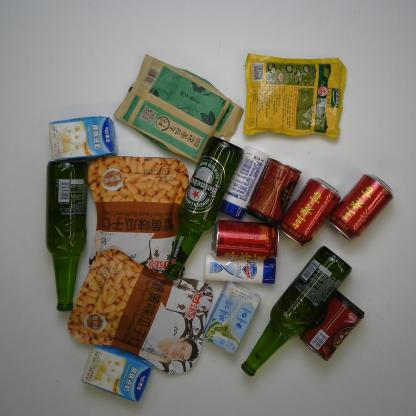Alcohol: (239, 246, 353, 378), (161, 134, 244, 282), (44, 159, 91, 312)
Canned Food: (298, 288, 366, 362), (245, 157, 302, 228)
Dried Food: (113, 53, 245, 166)
Dried Fruit: (66, 247, 214, 377), (86, 155, 191, 279)
Drink: (326, 171, 395, 243), (278, 176, 342, 247), (211, 218, 280, 260)
Milk: (81, 343, 153, 404), (202, 282, 262, 355), (48, 114, 119, 162)
Personal Hygiene: (219, 144, 271, 221), (203, 252, 277, 284)
Seasoner: (242, 52, 348, 141)
